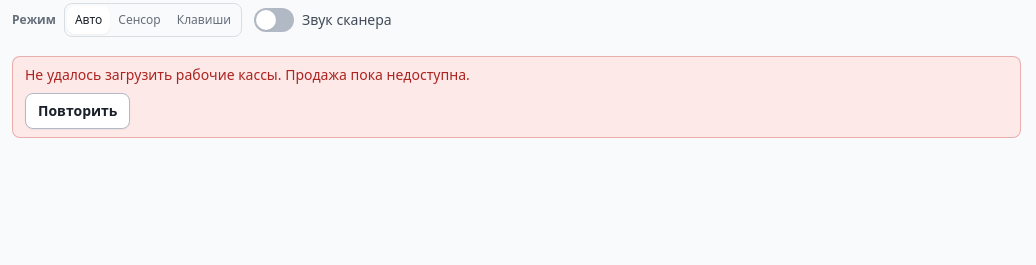
POSPage › retries loading working registers without reloading the page
The image size is (1036, 265).
expect the text "Не удалось загрузить рабочие кассы. Продажа пока недоступна." is shown: met, box [25,65,470,84]
Click the button "Повторить": coordinates (78, 111) [25,93,130,129]
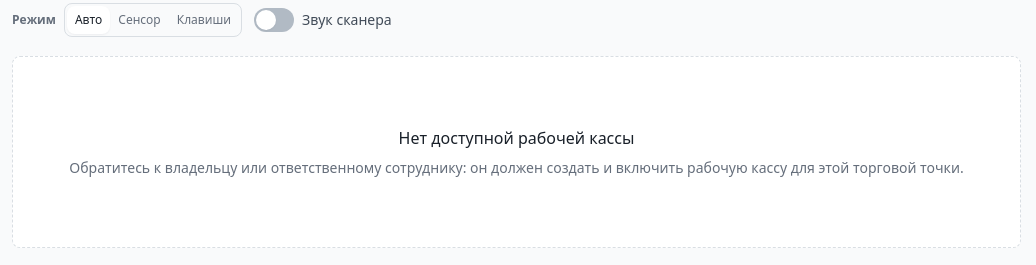
expect the text "Нет доступной рабочей кассы" is shown: met, box [399,126,634,150]
